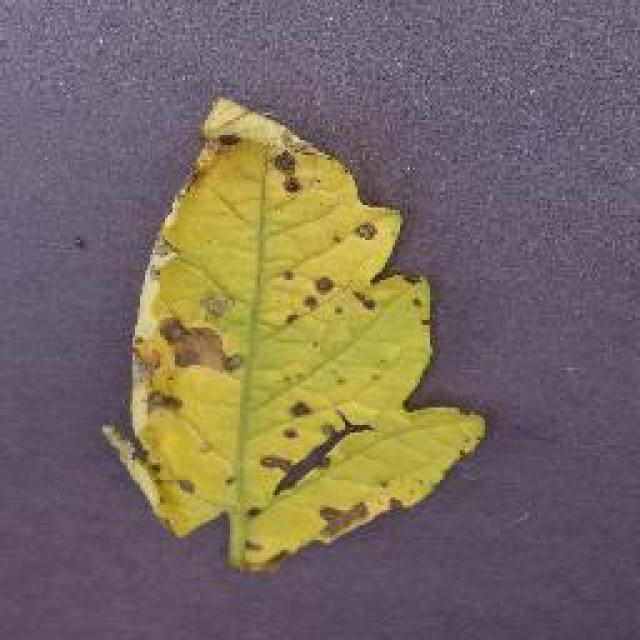Tomato target spot leaf: (101, 87, 496, 575)
